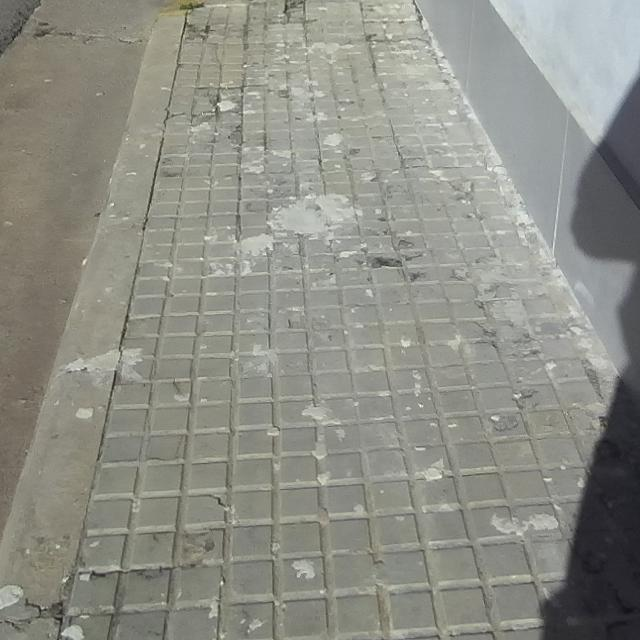calcada_quebrada: (167, 86, 238, 125)
